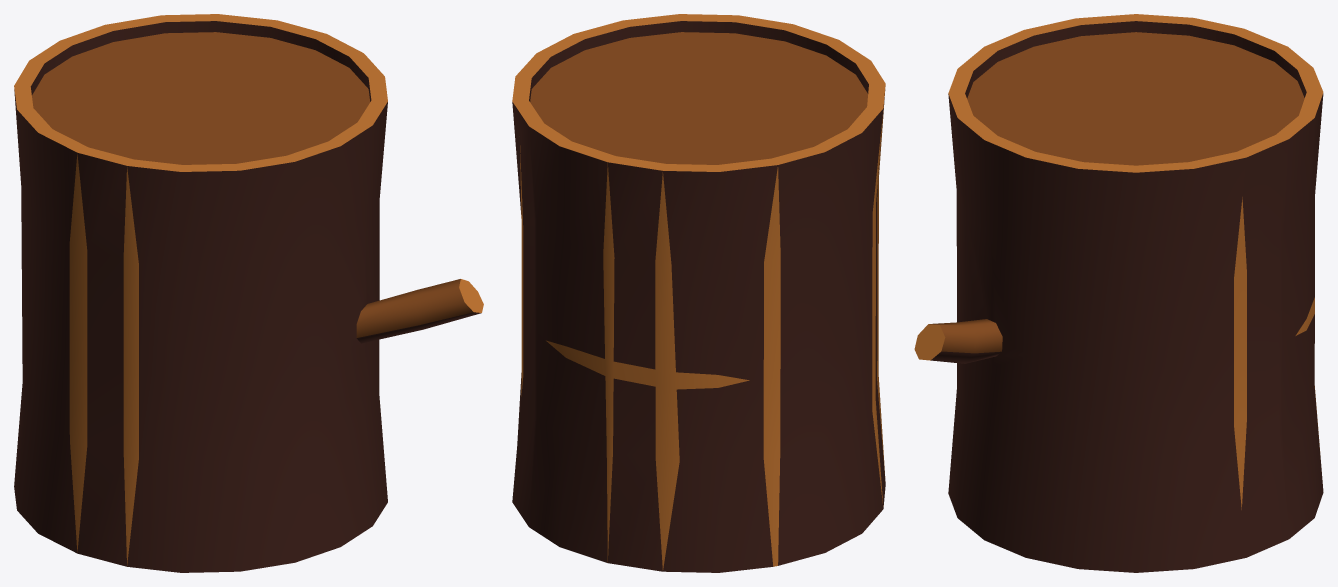
Rendered from Log.fbx.
3 views of the same model, side by side, from view 1: azimuth 30°, elevation 25°; view 2: azimuth 150°, elevation 25°; view 3: azimuth 270°, elevation 25° (orthographic).
Visible parts, largest first — view 1: cloud:Log; view 2: cloud:Log; view 3: cloud:Log.
Part boxes in pixels (left/top/right/bottom): cloud:Log: left=14, top=14, right=483, bottom=572; cloud:Log: left=512, top=14, right=885, bottom=572; cloud:Log: left=914, top=14, right=1323, bottom=572.
Bounding box in the file's own units: 476 × 532 × 493.
